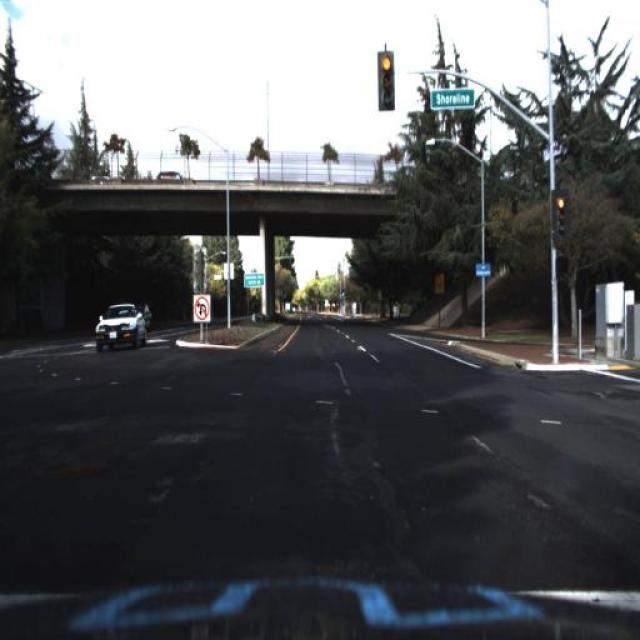car: (91, 298, 150, 354)
trafficLight-Green: (550, 186, 569, 242)
trafficLight-RedLeft: (378, 47, 394, 109)
